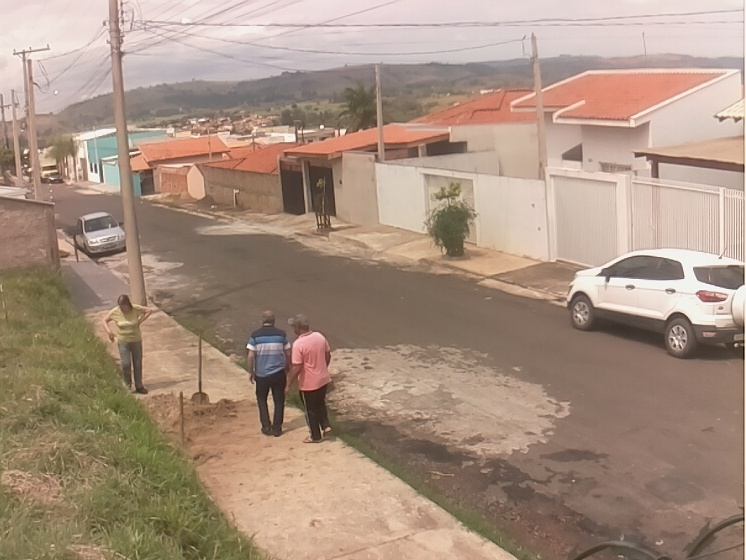person: (246, 309, 294, 438), (287, 315, 335, 442), (101, 293, 153, 394)
